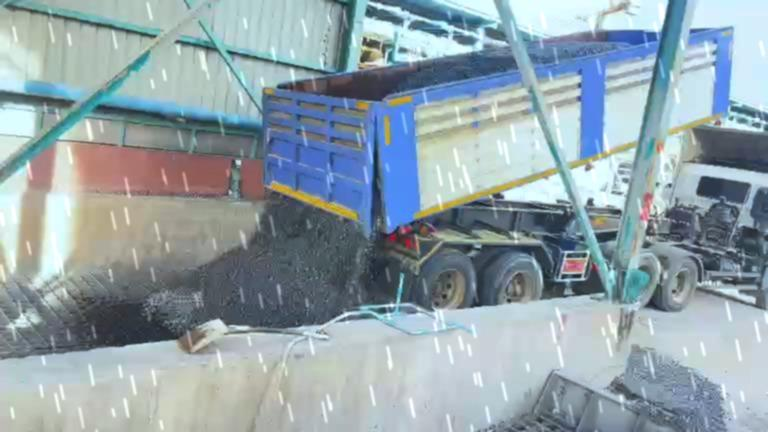gravel: (150, 193, 372, 333), (622, 345, 726, 431), (393, 47, 516, 92), (527, 42, 630, 64)
